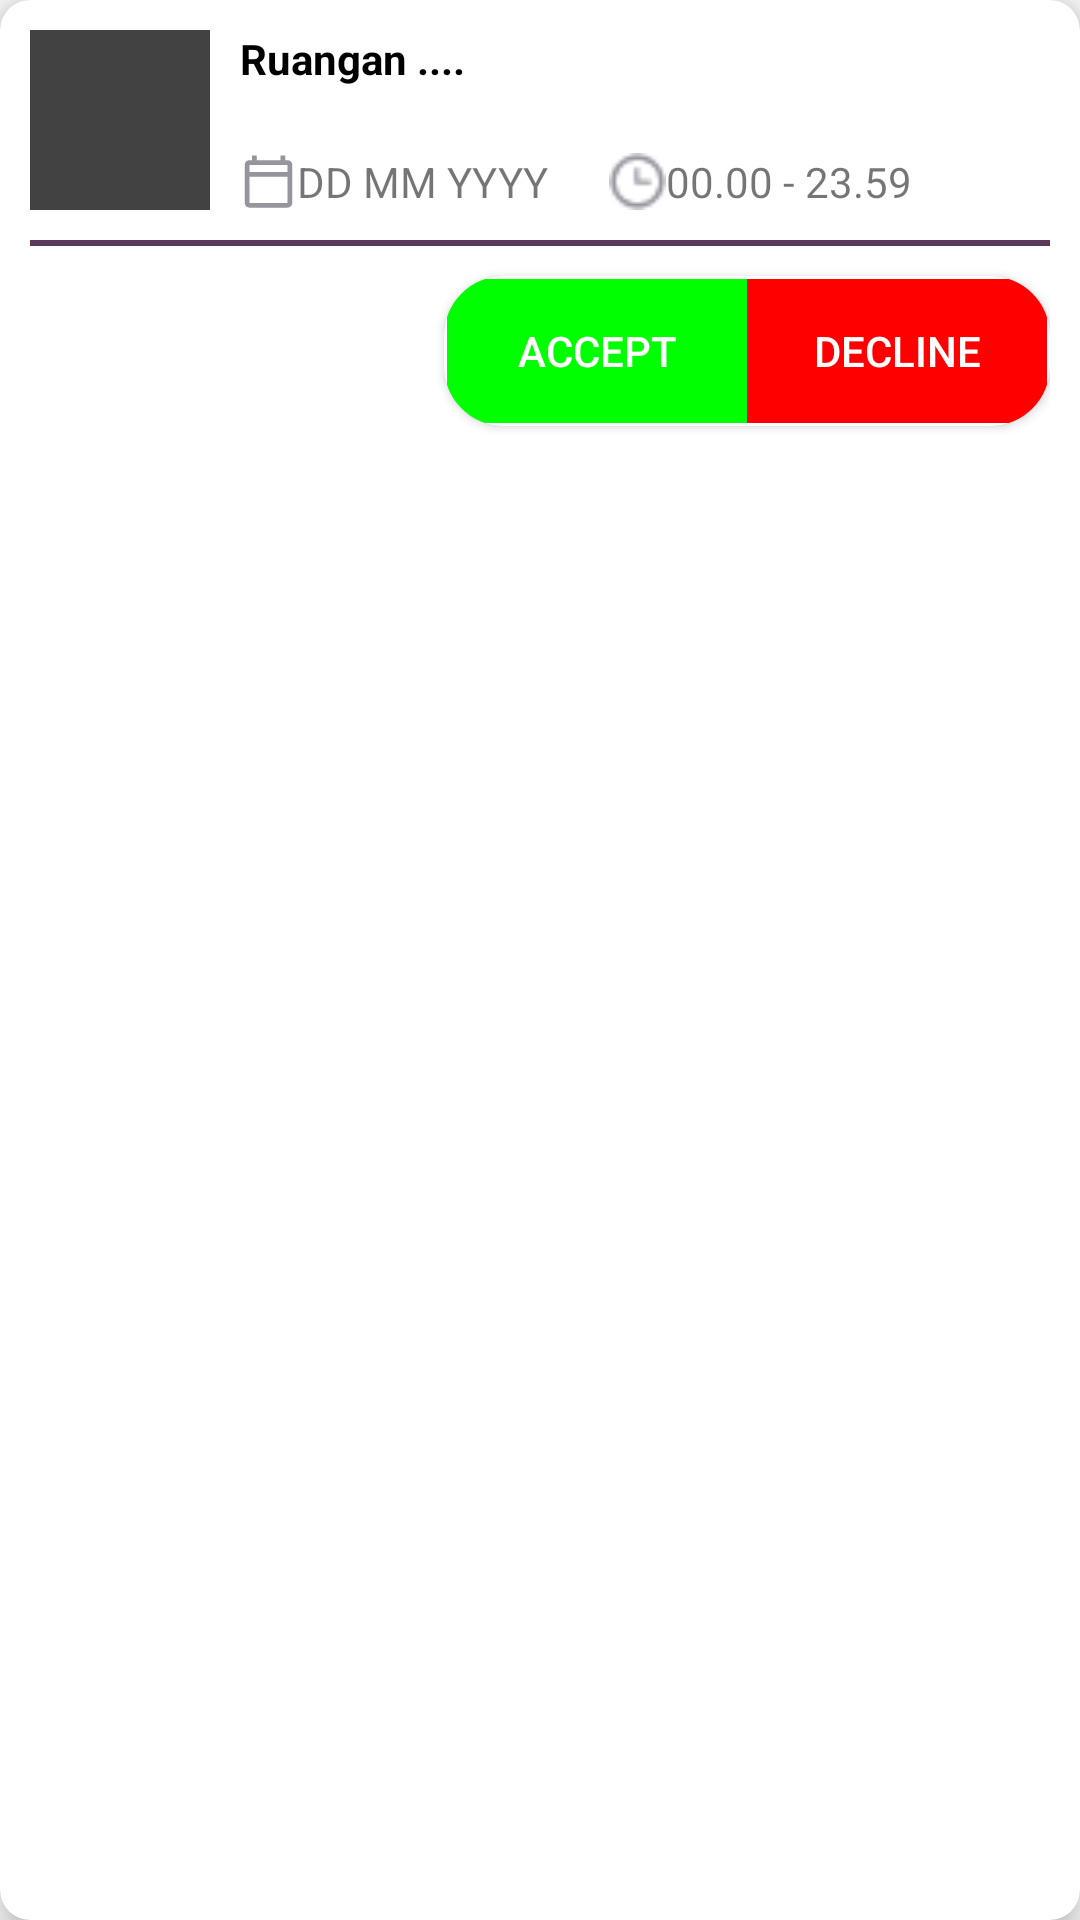

Where to tap for icons on this 1080 × 1920 app screen, as (x=x, y=y):
calendar today: (x=268, y=181)
clock: (x=637, y=181)
